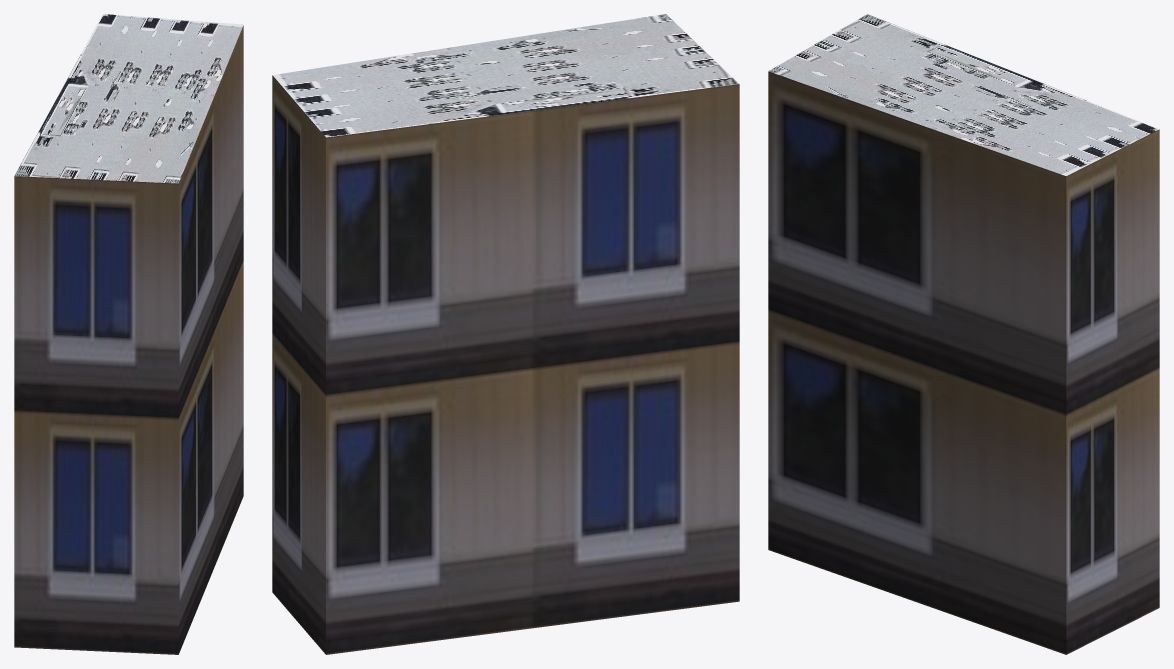
Rendered from ResTex__481.fbx.
The picture shows the model from 3 angles, left to right: view 1: azimuth 30°, elevation 25°; view 2: azimuth 150°, elevation 25°; view 3: azimuth 270°, elevation 25°; orthographic projection. The views are drawn at different scales.
Visible parts, largest first — view 1: CityEngineMaterial_5_m, CityEngineMaterial_m; view 2: CityEngineMaterial_5_m, CityEngineMaterial_m; view 3: CityEngineMaterial_5_m, CityEngineMaterial_m.
Boxes of the visible parts, x1=… form: CityEngineMaterial_5_m: x1=14, y1=25, x2=243, y2=654; CityEngineMaterial_m: x1=14, y1=14, x2=243, y2=183; CityEngineMaterial_5_m: x1=272, y1=75, x2=739, y2=654; CityEngineMaterial_m: x1=272, y1=14, x2=739, y2=137; CityEngineMaterial_5_m: x1=768, y1=71, x2=1159, y2=654; CityEngineMaterial_m: x1=768, y1=14, x2=1159, y2=176.
Size of the model in its own units: 4.36 by 6 by 4.45.
2 materials, 2 textured.
